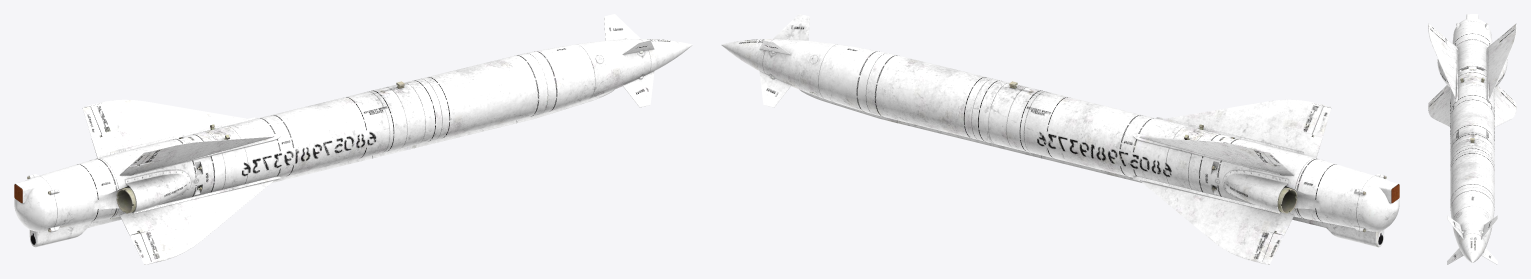
The model's file is Kh-23M Cruise Naval.glb.
The picture shows the model from 3 angles, left to right: view 1: azimuth 30°, elevation 25°; view 2: azimuth 150°, elevation 25°; view 3: azimuth 270°, elevation 25°; orthographic projection. The views are drawn at different scales.
Visible parts, largest first — view 1: Object_2; view 2: Object_2; view 3: Object_2.
Boxes of the visible parts, x1=… form: Object_2: x1=14, y1=14, x2=692, y2=264; Object_2: x1=721, y1=14, x2=1399, y2=264; Object_2: x1=1428, y1=14, x2=1516, y2=264.
Bounding box in the file's own units: 3.4 × 0.5448 × 0.5448.
Materials: 1 (1 with a texture image).
